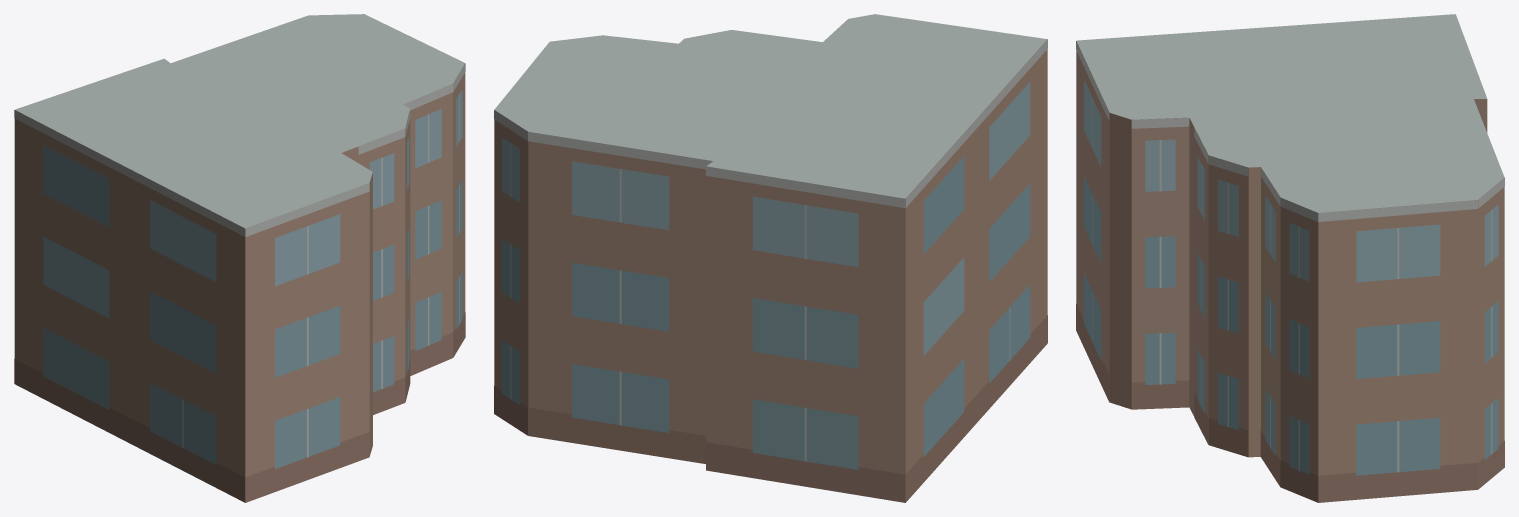
The model's file is survey-upis-32505808.glb.
3 views of the same model, side by side, from view 1: azimuth 30°, elevation 25°; view 2: azimuth 150°, elevation 25°; view 3: azimuth 270°, elevation 25° (orthographic). The views are drawn at different scales.
Visible parts, largest first — view 1: survey-upis-32505808.tmp; view 2: survey-upis-32505808.tmp; view 3: survey-upis-32505808.tmp.
Boxes of the visible parts, x1,y1,x2,y2 form: survey-upis-32505808.tmp: [14, 14, 465, 502]; survey-upis-32505808.tmp: [494, 14, 1047, 502]; survey-upis-32505808.tmp: [1076, 14, 1504, 502].
Size of the model in its own units: 11.5 by 7.8 by 10.46.
